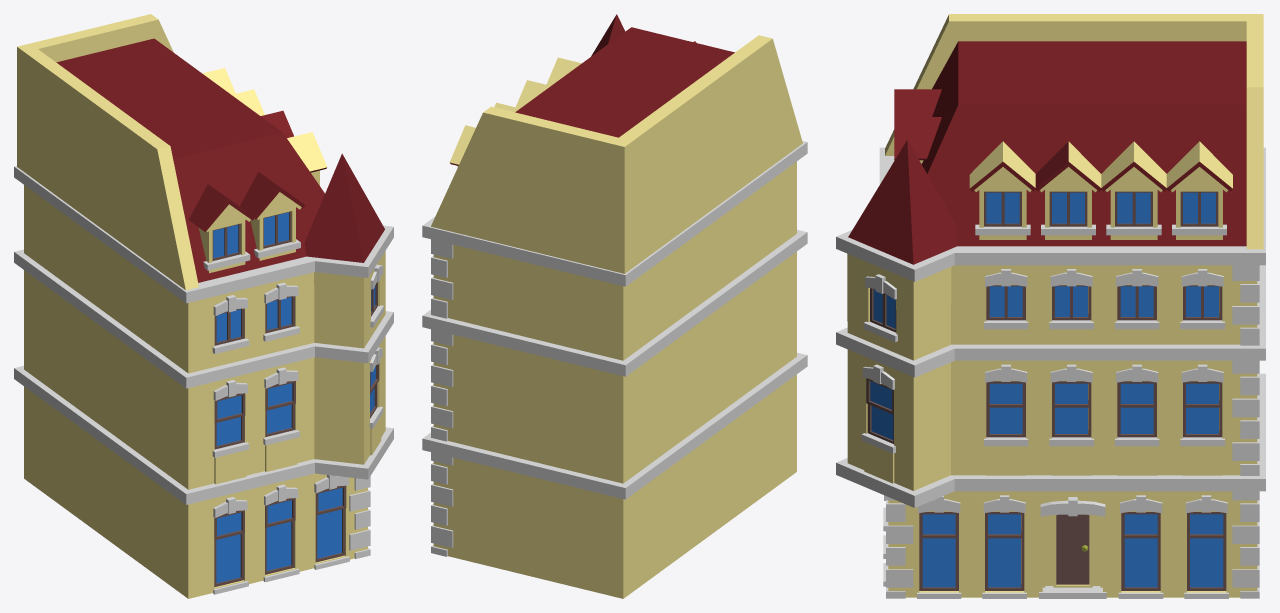
File: house07.fbx
3 views of the same model, side by side, from view 1: azimuth 30°, elevation 25°; view 2: azimuth 150°, elevation 25°; view 3: azimuth 270°, elevation 25° (orthographic). The views are drawn at different scales.
Visible parts, largest first — view 1: _house07; view 2: _house07; view 3: _house07.
Part boxes in pixels (bbox=[...]): _house07: bbox=[14, 14, 393, 598]; _house07: bbox=[422, 14, 807, 598]; _house07: bbox=[836, 14, 1265, 598].
Bounding box in the file's own units: 85.08 × 157 × 126.
